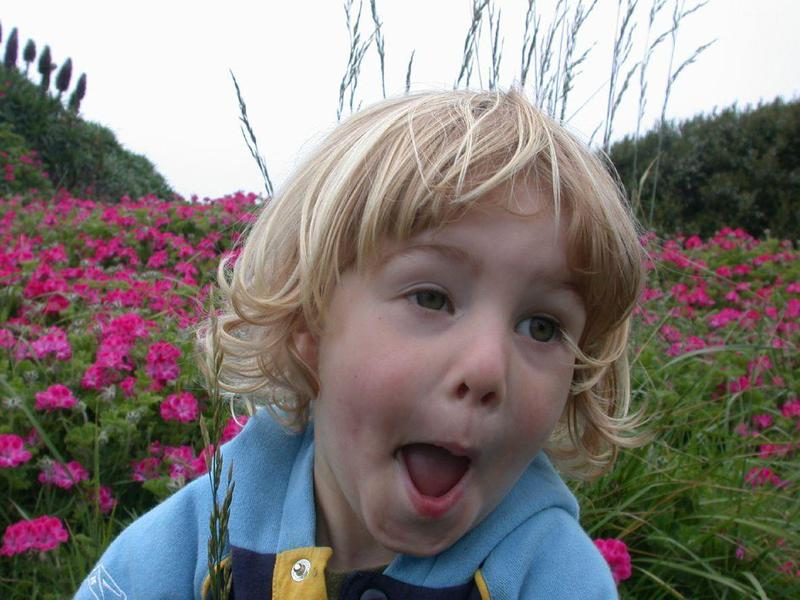person: (96, 83, 648, 600)
